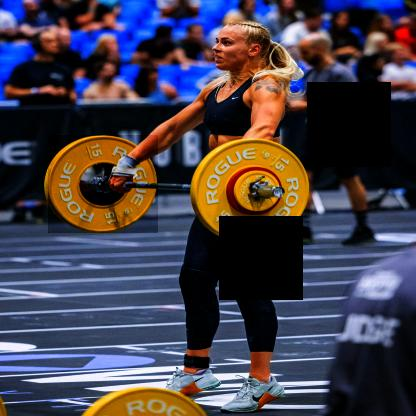barbell: (195, 139, 311, 244), (49, 136, 159, 234)
